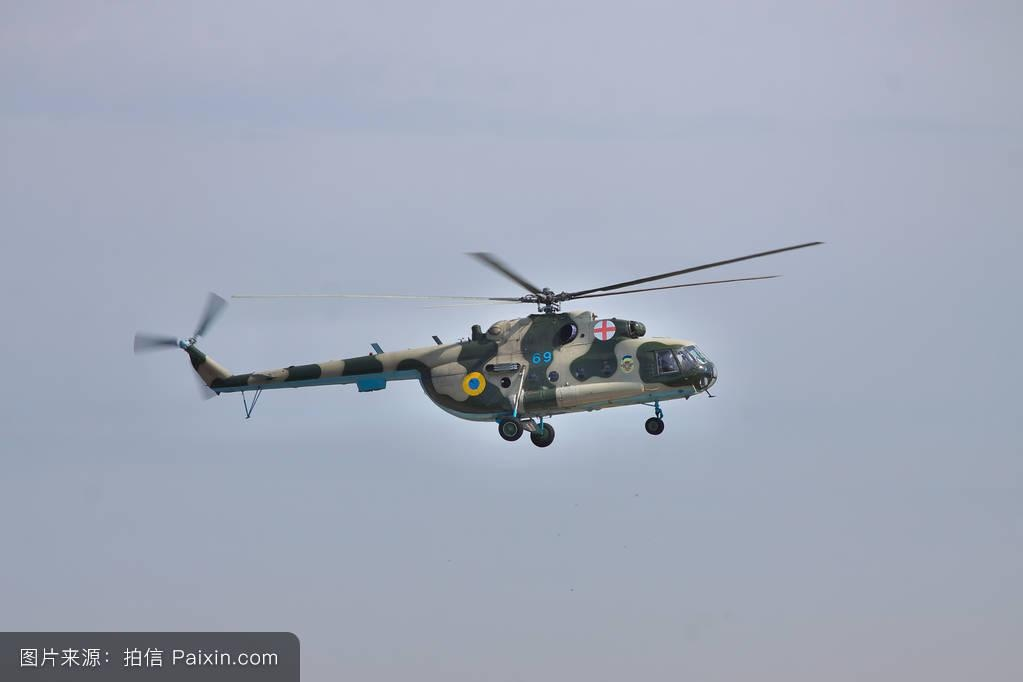airplane: (116, 229, 843, 452)
